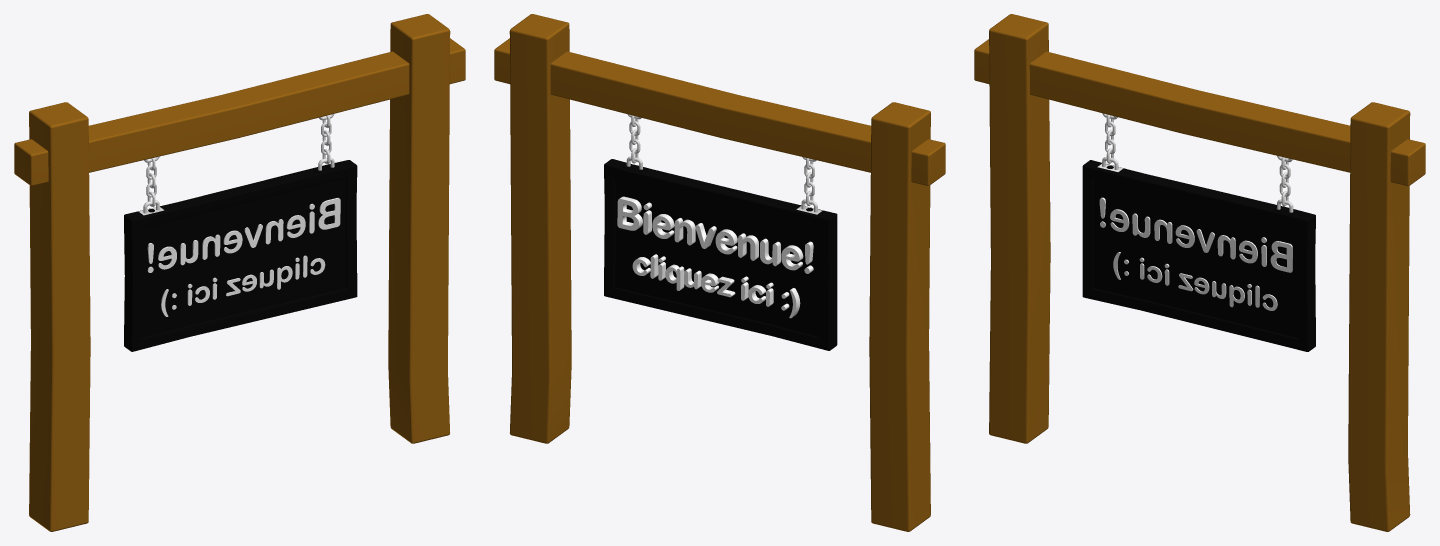
The model's file is bienvenue.glb.
The picture shows the model from 3 angles, left to right: view 1: azimuth 30°, elevation 25°; view 2: azimuth 150°, elevation 25°; view 3: azimuth 330°, elevation 25°; orthographic projection.
Visible parts, largest first — view 1: signboard.001, signboard.002, Text, Text.001, signboard; view 2: signboard.001, signboard.002, Text, Text.001, signboard; view 3: signboard.001, signboard.002, Text, Text.001, signboard.
Part boxes in pixels (left/top/right/bottom): signboard.001: left=14, top=14, right=465, bottom=531; signboard.002: left=124, top=160, right=357, bottom=351; Text: left=147, top=198, right=340, bottom=272; Text.001: left=161, top=255, right=325, bottom=316; signboard: left=139, top=114, right=334, bottom=215; signboard.001: left=494, top=14, right=945, bottom=531; signboard.002: left=604, top=159, right=837, bottom=350; Text: left=617, top=196, right=813, bottom=273; Text.001: left=632, top=254, right=800, bottom=318; signboard: left=626, top=114, right=822, bottom=214; signboard.001: left=974, top=14, right=1425, bottom=531; signboard.002: left=1082, top=160, right=1315, bottom=351; Text: left=1099, top=197, right=1292, bottom=272; Text.001: left=1113, top=252, right=1277, bottom=310; signboard: left=1097, top=113, right=1293, bottom=212.
Size of the model in its own units: 0.4895 by 0.4366 by 0.0437.
